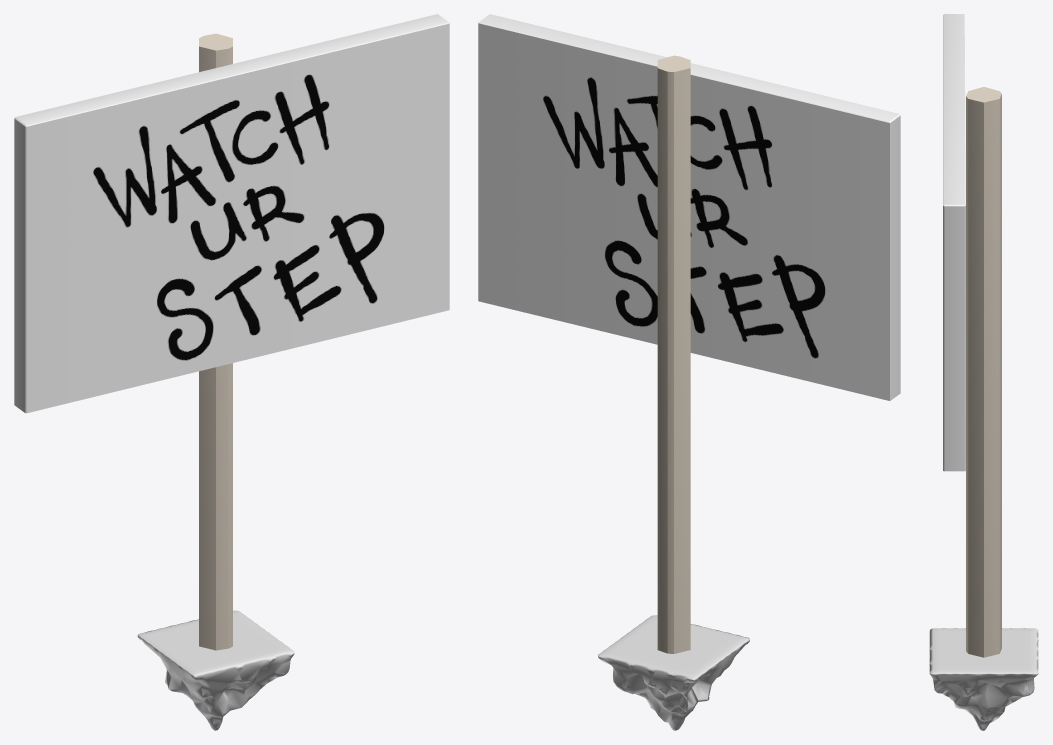
Rendered from LooneyTunesSign_edit.fbx.
3 views of the same model, side by side, from view 1: azimuth 30°, elevation 25°; view 2: azimuth 150°, elevation 25°; view 3: azimuth 270°, elevation 25° (orthographic). The views are drawn at different scales.
Parts seen in each view (by area): view 1: Sign, Post, Ground; view 2: Sign, Post, Ground; view 3: Post, Sign, Ground.
Part boxes in pixels (x1,y1,x2,y2): Sign: (14, 14, 449, 413); Post: (199, 33, 232, 650); Ground: (137, 610, 294, 730); Sign: (478, 14, 900, 400); Post: (657, 55, 690, 653); Ground: (598, 615, 749, 730); Post: (966, 87, 1001, 657); Sign: (943, 14, 965, 471); Ground: (929, 628, 1038, 730).
Bounding box in the file's own units: 100 × 157 × 24.07.
